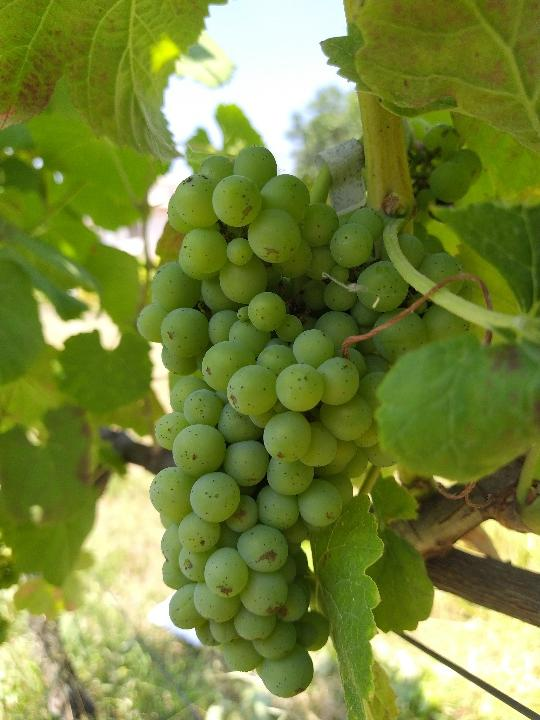grape: (130, 143, 469, 698)
